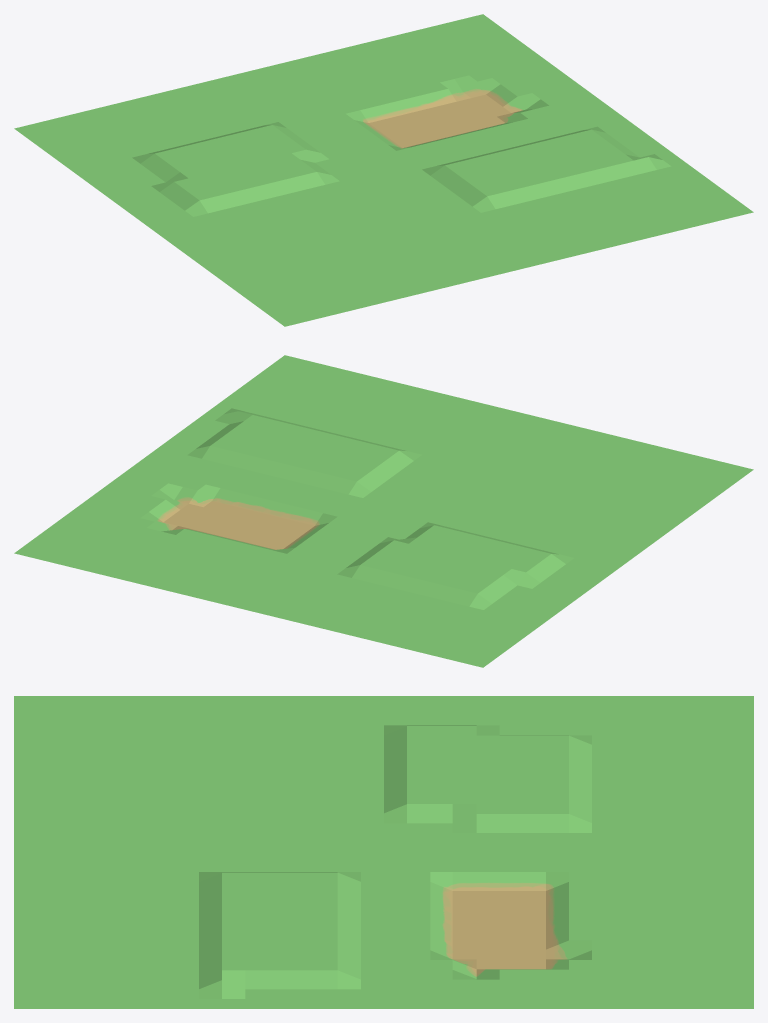
The model's file is NewMap1.glb.
3 renders of one model, top to bottom at view 1: azimuth 30°, elevation 25°; view 2: azimuth 150°, elevation 25°; view 3: azimuth 270°, elevation 25°, orthographic. The views are drawn at different scales.
Parts seen in each view (by area): view 1: Ground; view 2: Ground; view 3: Ground.
Boxes of the visible parts, box(x1,y1,x2,y2) form: Ground: box(14, 14, 753, 326); Ground: box(14, 355, 753, 667); Ground: box(14, 696, 753, 1008).
Bounding box in the file's own units: 21.74 × 0.6 × 21.74.
1 material, 1 textured.
